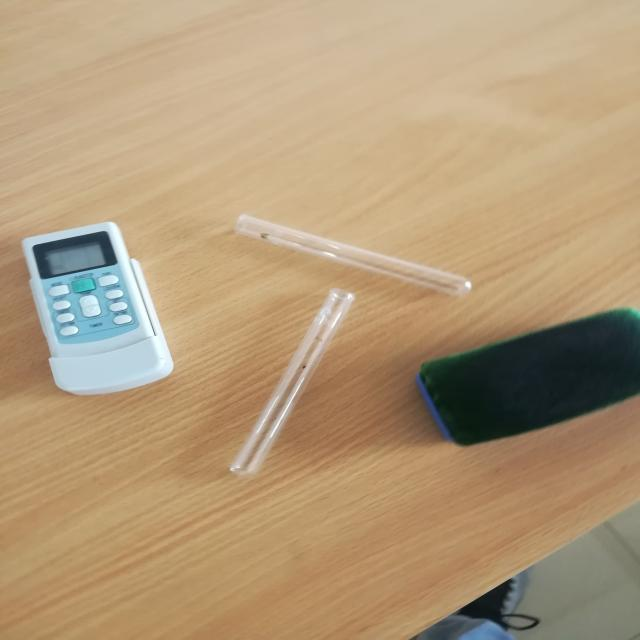Test_Tube: (203, 278, 381, 493), (196, 192, 499, 310)
